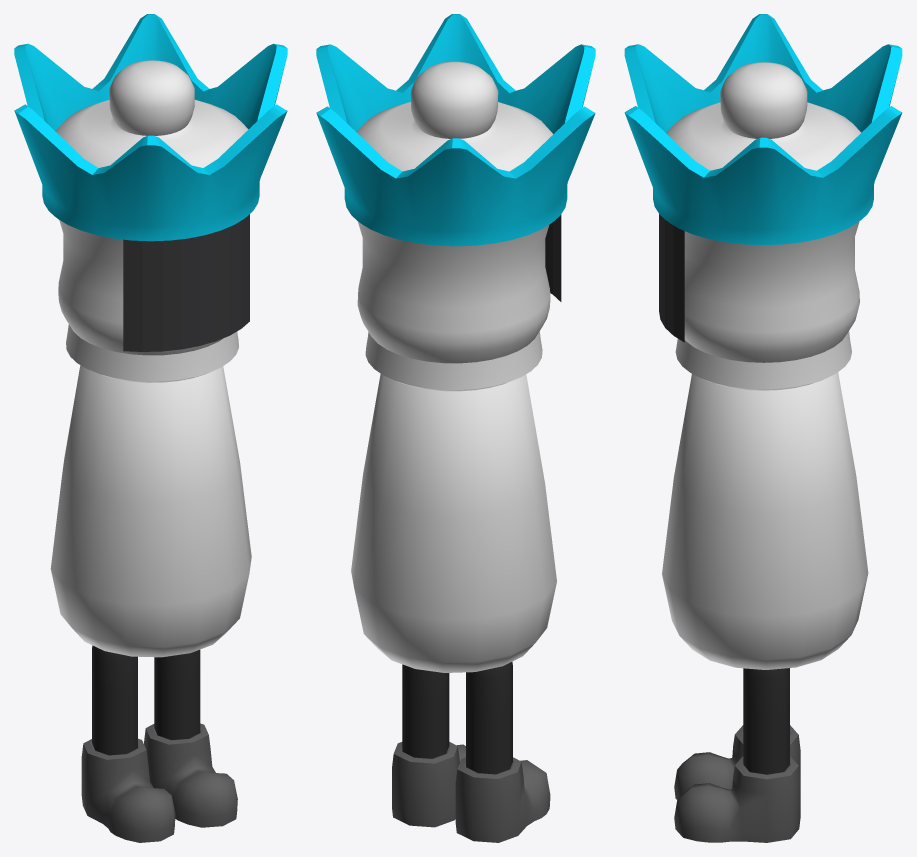
The model's file is Dama.fbx.
3 views of the same model, side by side, from view 1: azimuth 30°, elevation 25°; view 2: azimuth 150°, elevation 25°; view 3: azimuth 270°, elevation 25° (orthographic). The views are drawn at different scales.
Visible parts, largest first — view 1: Dama; view 2: Dama; view 3: Dama.
Part boxes in pixels (box(x1,y1,x2,y2)): Dama: box(14, 14, 287, 842); Dama: box(316, 14, 595, 842); Dama: box(624, 14, 902, 842).
Size of the model in its own units: 1.4 by 3.66 by 1.23.
